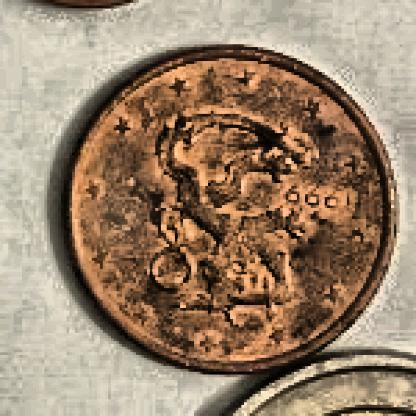coin: (59, 48, 395, 374)
